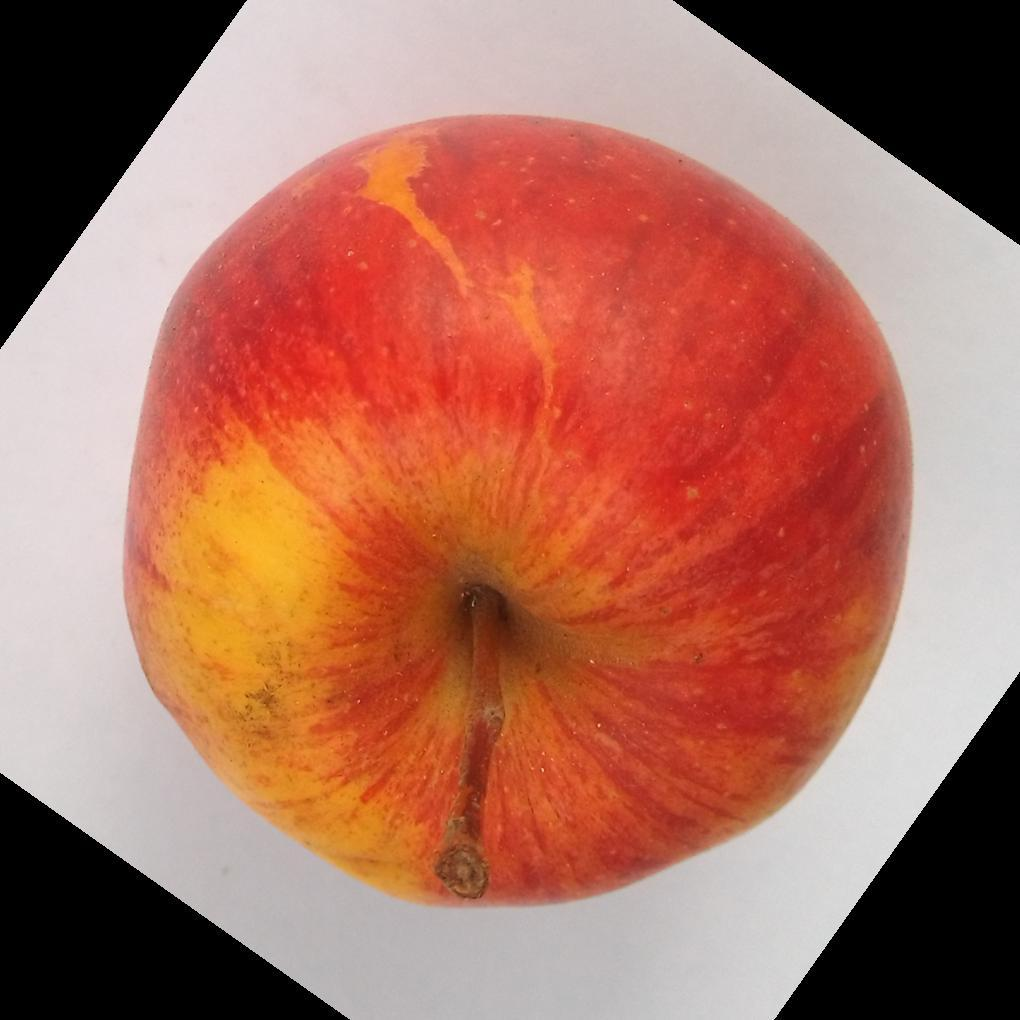FreshGuava: (118, 114, 914, 916)
